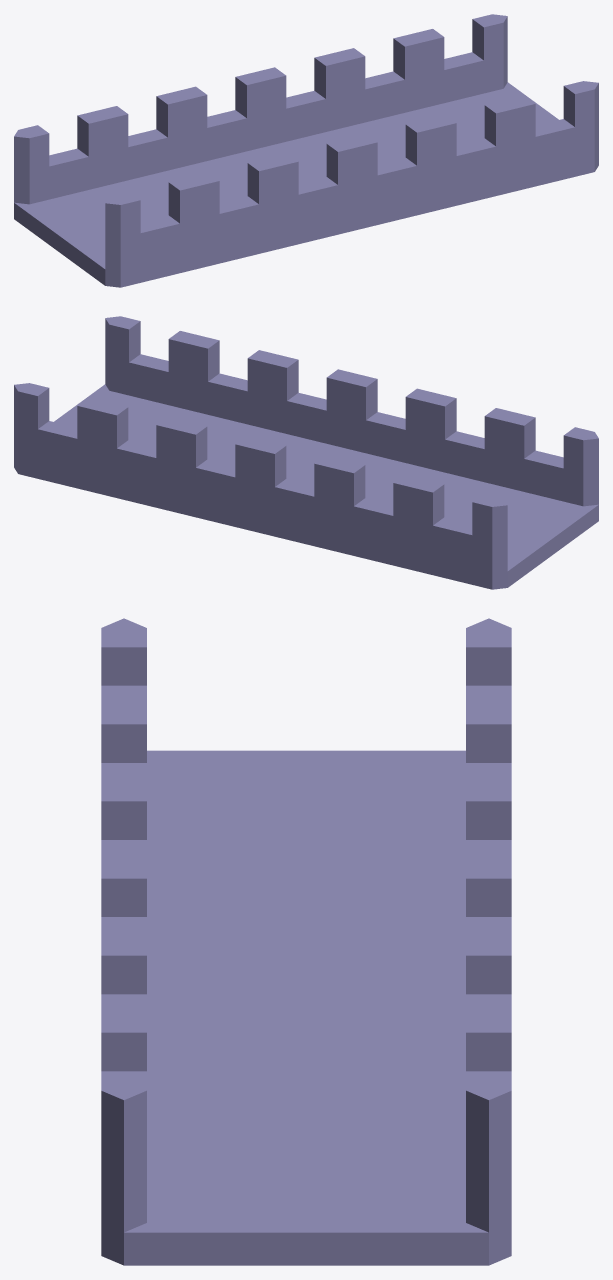
The model's file is corridor2.fbx.
3 views of the same model, one above another, from view 1: azimuth 30°, elevation 25°; view 2: azimuth 150°, elevation 25°; view 3: azimuth 270°, elevation 25° (orthographic). The views are drawn at different scales.
Visible parts, largest first — view 1: mergedBlocks; view 2: mergedBlocks; view 3: mergedBlocks.
Boxes of the visible parts, x1,y1,x2,y2 form: mergedBlocks: (14,14,598,287); mergedBlocks: (14,316,598,589); mergedBlocks: (101,618,511,1265).
Size of the model in its own units: 31.25 by 5 by 11.25.
